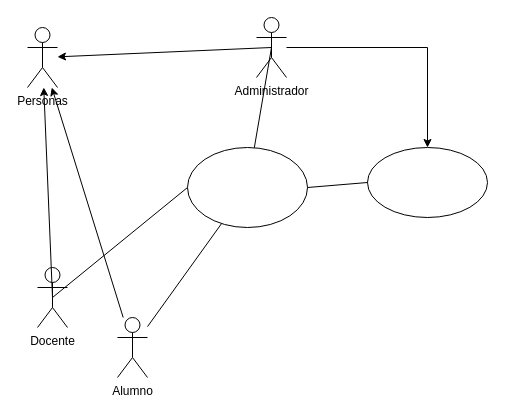
Some shapes in this 505 by 416 pixel diagram are drawn without their labels. The box of each missing label's shape, as (x1, y1, x2, y2) in pixels:
Autorizar la creación del perfil: (366, 146, 488, 218)
Crear perfil: (186, 146, 308, 228)
